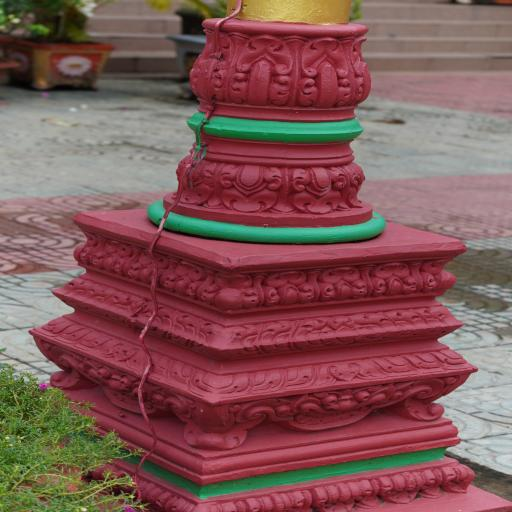la: (219, 29, 300, 110), (292, 31, 362, 114), (213, 160, 285, 216), (278, 167, 352, 217), (187, 27, 228, 106), (200, 266, 264, 313), (324, 160, 377, 215), (169, 153, 217, 207), (252, 266, 320, 304), (158, 258, 216, 302), (308, 265, 373, 304), (367, 259, 421, 296), (93, 235, 137, 280), (410, 257, 458, 293), (66, 229, 104, 271), (123, 245, 166, 281)
than: (43, 344, 199, 418), (231, 378, 449, 422)
